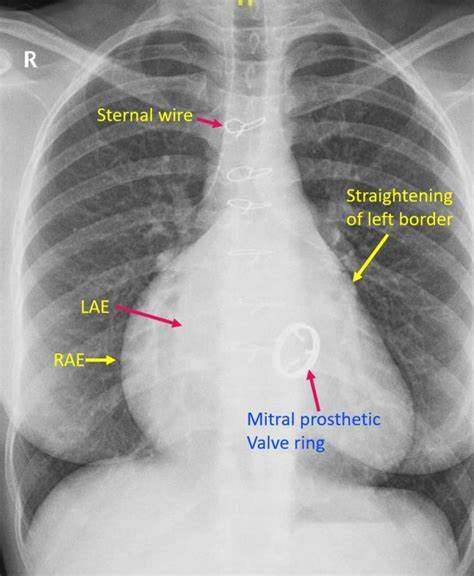telestration: (242, 410, 382, 455), (345, 188, 451, 226), (110, 298, 182, 329), (349, 230, 390, 283), (95, 106, 189, 127), (298, 367, 323, 410), (77, 299, 109, 319), (191, 109, 222, 128), (49, 352, 83, 366), (85, 353, 114, 366)
